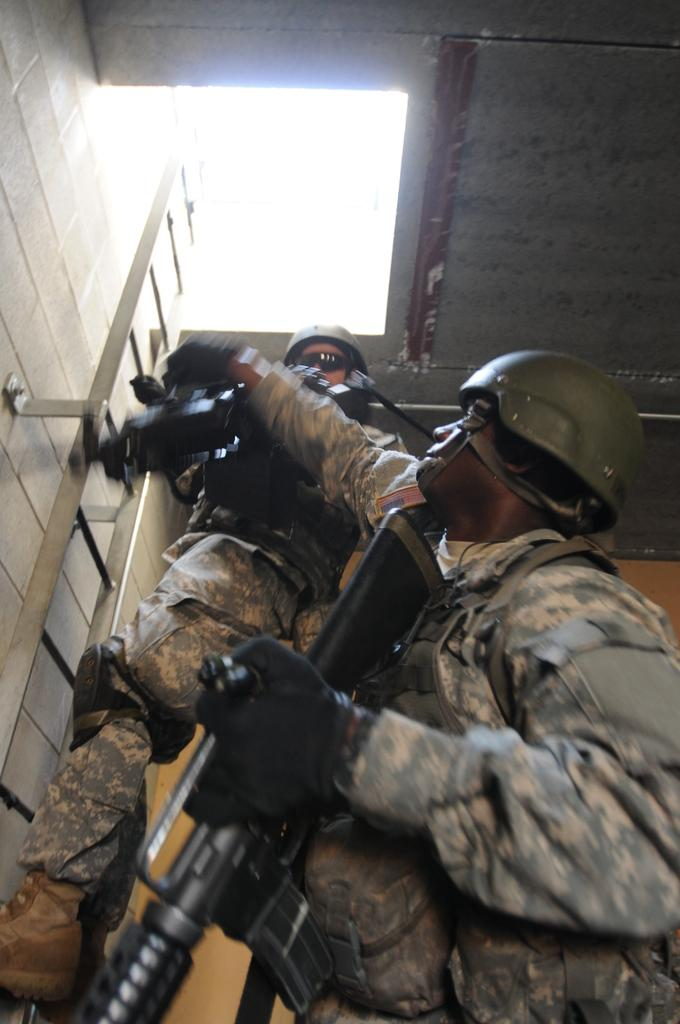non-violence: (172, 350, 680, 1020), (0, 328, 403, 1024)
weapon: (82, 508, 446, 1024), (96, 377, 254, 483)
